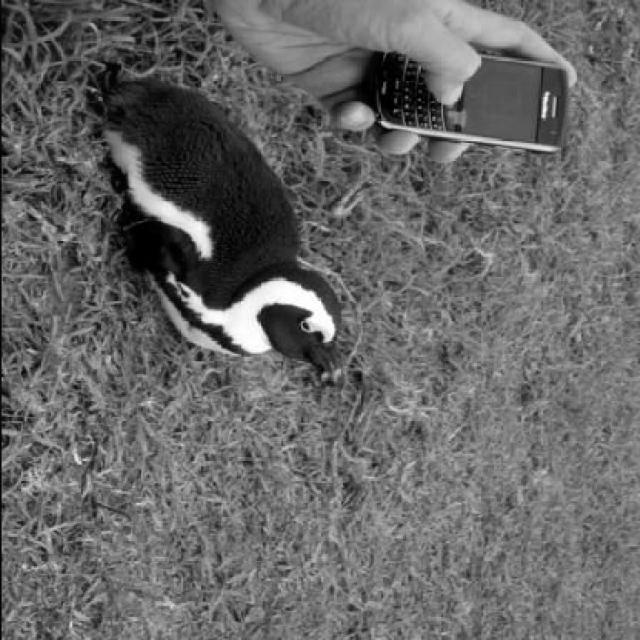fake: (370, 36, 568, 156)
